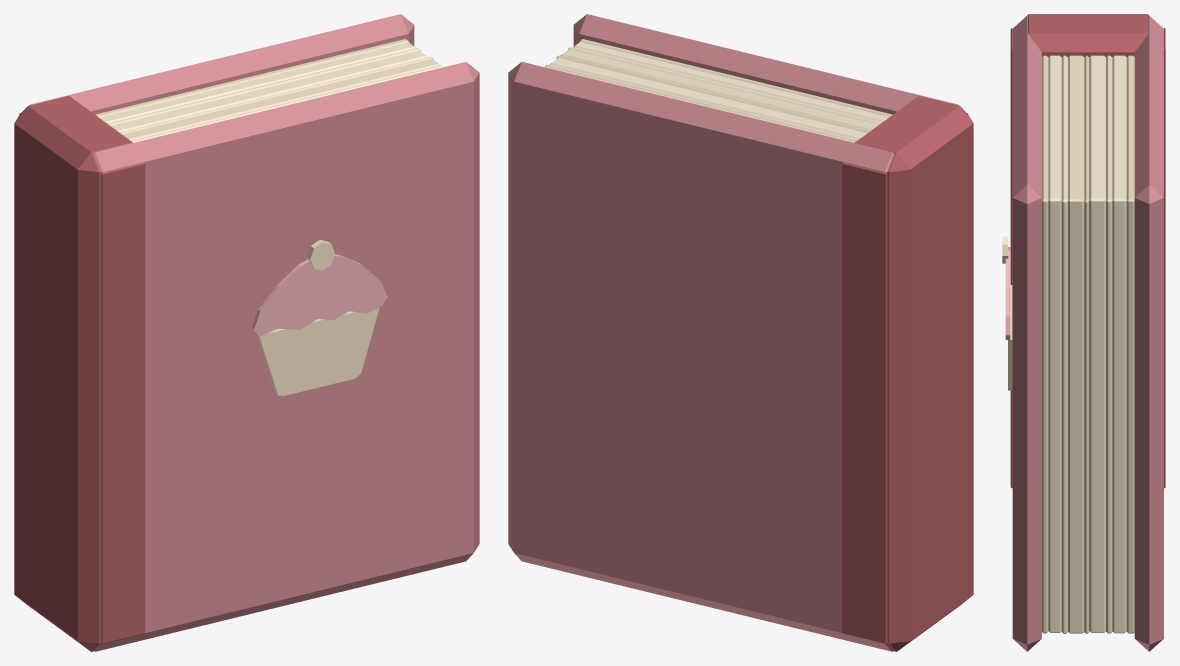
The model's file is 02-recipe-book.glb.
The picture shows the model from 3 angles, left to right: view 1: azimuth 30°, elevation 25°; view 2: azimuth 150°, elevation 25°; view 3: azimuth 270°, elevation 25°; orthographic projection. The views are drawn at different scales.
Parts seen in each view (by area): view 1: 01 Front hardcover, 03 Broad bound spine, 04 Front spine cloth, 02 Back hardcover, 06 Cupcake vanilla cup, 07 Cupcake pink frosting, Page gathering 06, Page gathering 04, Page gathering 08, Page gathering 09, Page gathering 07, Page gathering 05 (+1 smaller); view 2: 02 Back hardcover, 03 Broad bound spine, 05 Back spine cloth, 01 Front hardcover, Page gathering 06, Page gathering 04, Page gathering 02, Page gathering 01, Page gathering 03, Page gathering 07, Page gathering 05; view 3: 01 Front hardcover, 02 Back hardcover, Page gathering 04, Page gathering 06, Page gathering 08, Page gathering 02, Page gathering 09, 03 Broad bound spine, Page gathering 01, Page gathering 03, Page gathering 07, Page gathering 05 (+4 smaller).
Part boxes in pixels (x1,y1,x2,y2): 01 Front hardcover: (94, 62, 479, 651); 03 Broad bound spine: (14, 96, 132, 651); 04 Front spine cloth: (101, 162, 145, 643); 02 Back hardcover: (29, 14, 414, 114); 06 Cupcake vanilla cup: (257, 308, 379, 395); 07 Cupcake pink frosting: (251, 254, 387, 336); Page gathering 06: (111, 50, 427, 132); Page gathering 04: (122, 59, 440, 140); Page gathering 08: (100, 42, 415, 123); Page gathering 09: (95, 39, 409, 117); Page gathering 07: (107, 48, 420, 125); Page gathering 05: (120, 56, 433, 134); 02 Back hardcover: (508, 62, 893, 651); 03 Broad bound spine: (855, 96, 973, 651); 05 Back spine cloth: (842, 162, 886, 643); 01 Front hardcover: (573, 14, 958, 114); Page gathering 06: (550, 58, 866, 139); Page gathering 04: (560, 49, 878, 131); Page gathering 02: (573, 42, 888, 122); Page gathering 01: (579, 39, 892, 117); Page gathering 03: (568, 46, 881, 124); Page gathering 07: (545, 64, 857, 141); Page gathering 05: (556, 55, 869, 133); 01 Front hardcover: (1012, 15, 1041, 651); 02 Back hardcover: (1134, 15, 1163, 651); Page gathering 04: (1068, 55, 1084, 633); Page gathering 06: (1089, 55, 1105, 632); Page gathering 08: (1112, 55, 1126, 633); Page gathering 02: (1048, 55, 1061, 632); Page gathering 09: (1126, 55, 1134, 633); 03 Broad bound spine: (1027, 14, 1148, 57); Page gathering 01: (1042, 55, 1048, 633); Page gathering 03: (1061, 55, 1067, 633); Page gathering 07: (1106, 55, 1112, 633); Page gathering 05: (1084, 55, 1088, 633).
Size of the model in its own units: 2.52 by 3 by 0.952.
